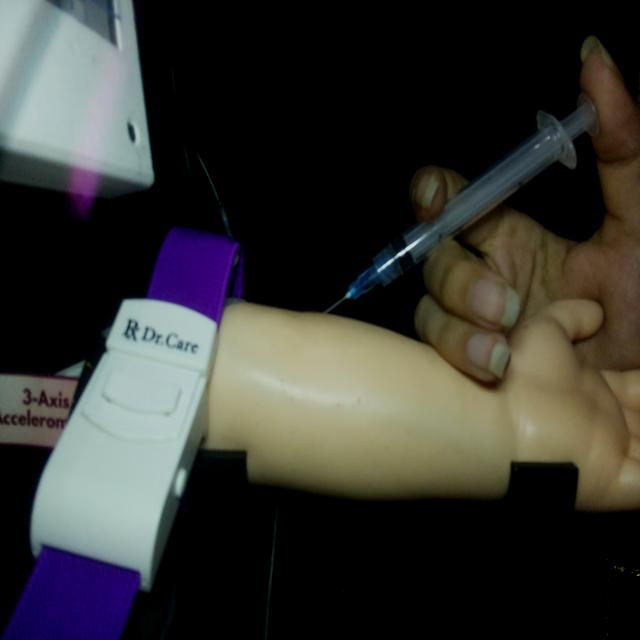27 degrees: (323, 90, 600, 316)
